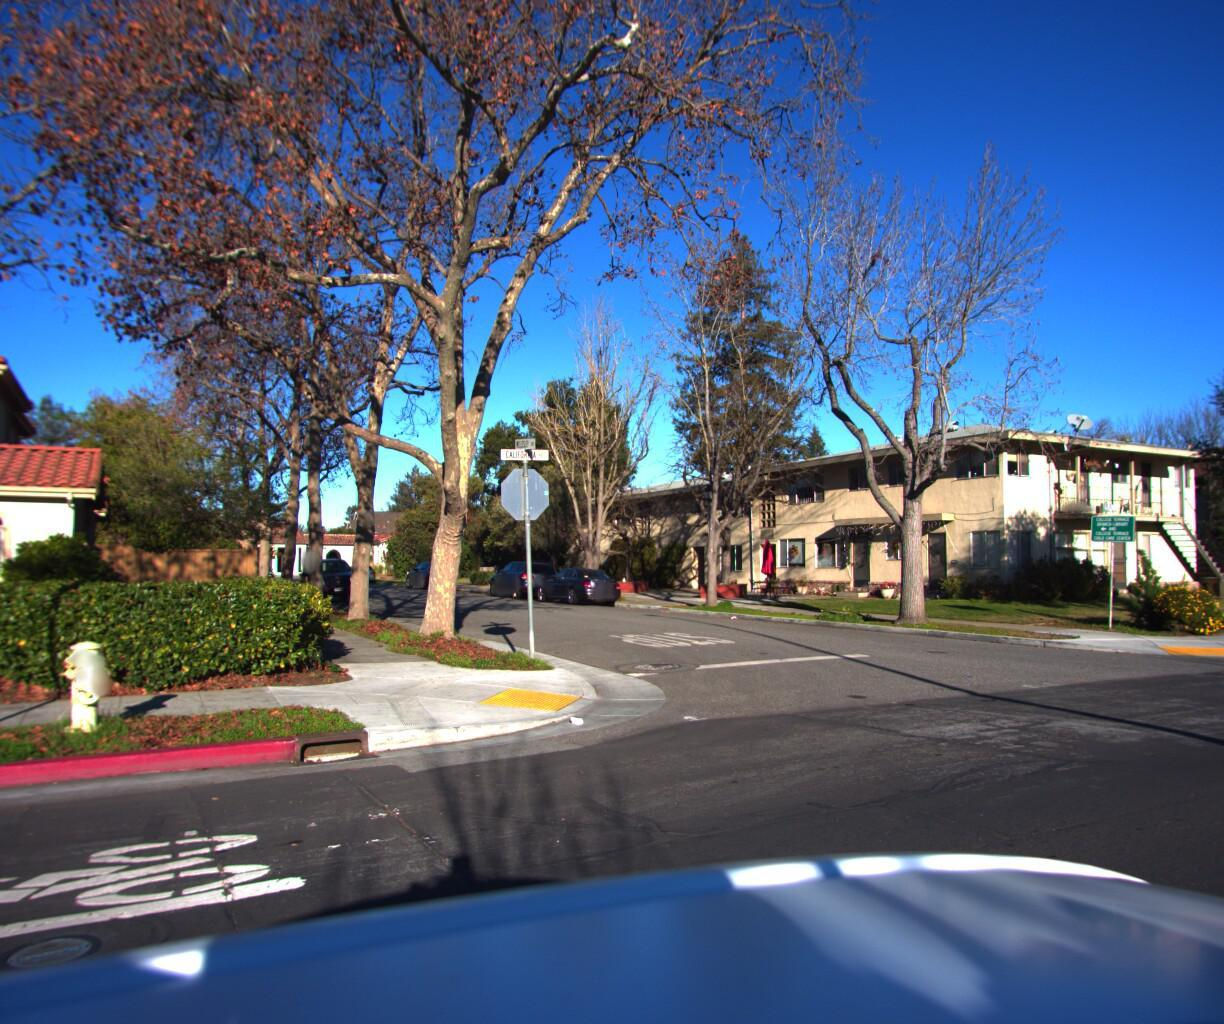car: (533, 566, 629, 610), (295, 558, 364, 610), (485, 561, 564, 605), (402, 564, 457, 595)
